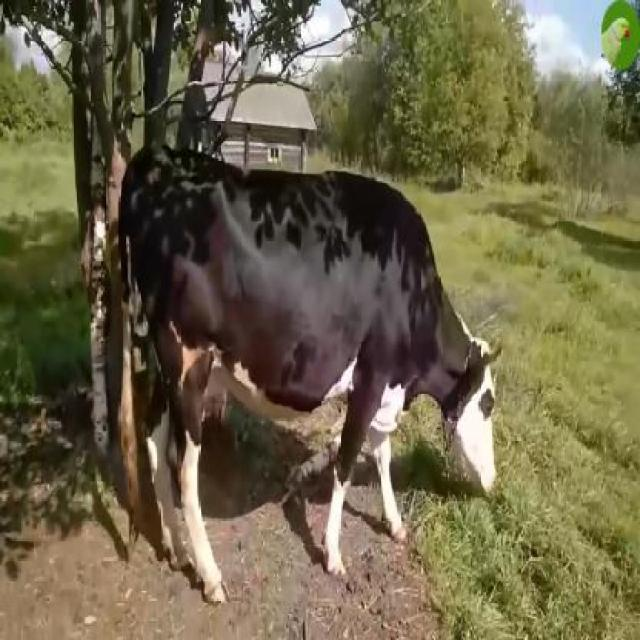Cow: (118, 143, 494, 591)
